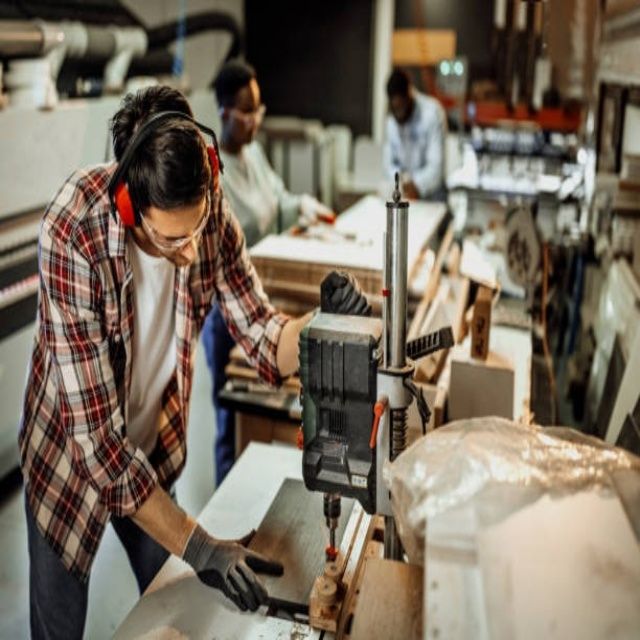Gafas: (140, 189, 213, 257), (223, 103, 265, 124)
Guantes: (184, 524, 273, 614), (320, 269, 373, 317), (298, 193, 336, 225)
Sin_mascara: (171, 243, 198, 269)
